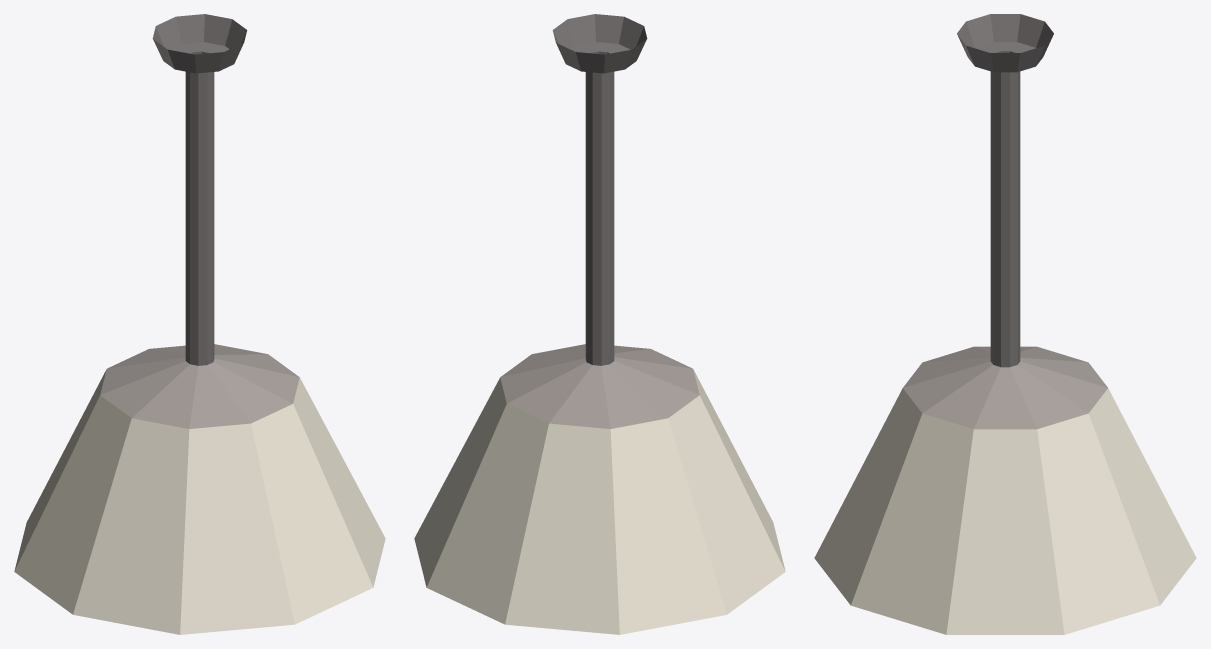
The model's file is Lamp_Cosy.fbx.
The picture shows the model from 3 angles, left to right: view 1: azimuth 30°, elevation 25°; view 2: azimuth 150°, elevation 25°; view 3: azimuth 270°, elevation 25°; orthographic projection.
Parts seen in each view (by area): view 1: Icosphere; view 2: Icosphere; view 3: Icosphere.
Part boxes in pixels (x1,y1,x2,y2): Icosphere: (14, 14, 385, 634); Icosphere: (414, 14, 785, 634); Icosphere: (814, 14, 1196, 634).
Bounding box in the file's own units: 30.18 × 28.7 × 45.84.
